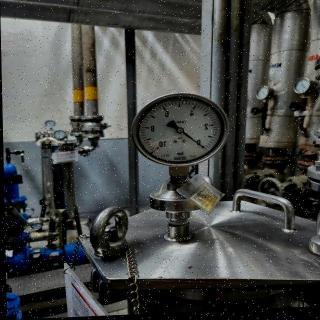gauge: (127, 92, 233, 167), (291, 76, 312, 96), (194, 138, 212, 156), (148, 140, 168, 156), (255, 85, 271, 101), (178, 127, 184, 133), (204, 147, 207, 151)
